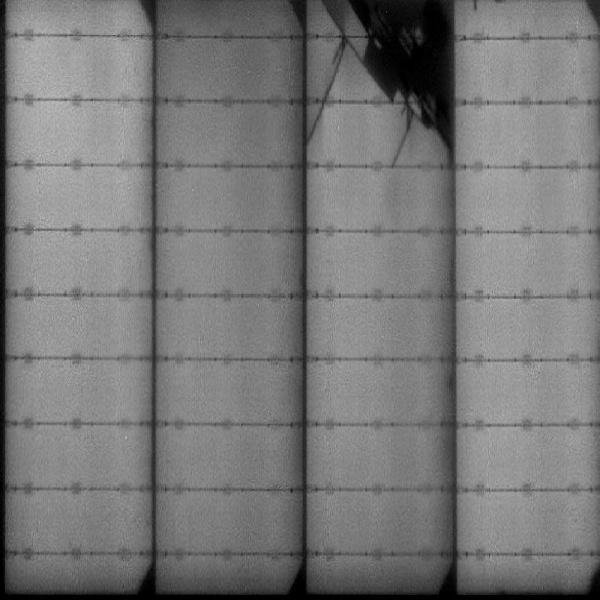broken: (306, 1, 455, 166)
